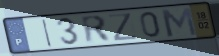0: (138, 10, 165, 40)
3: (55, 16, 81, 47)
I: (41, 18, 54, 49)
M: (159, 6, 200, 38)
R: (79, 14, 114, 46)
Z: (107, 12, 141, 42)
